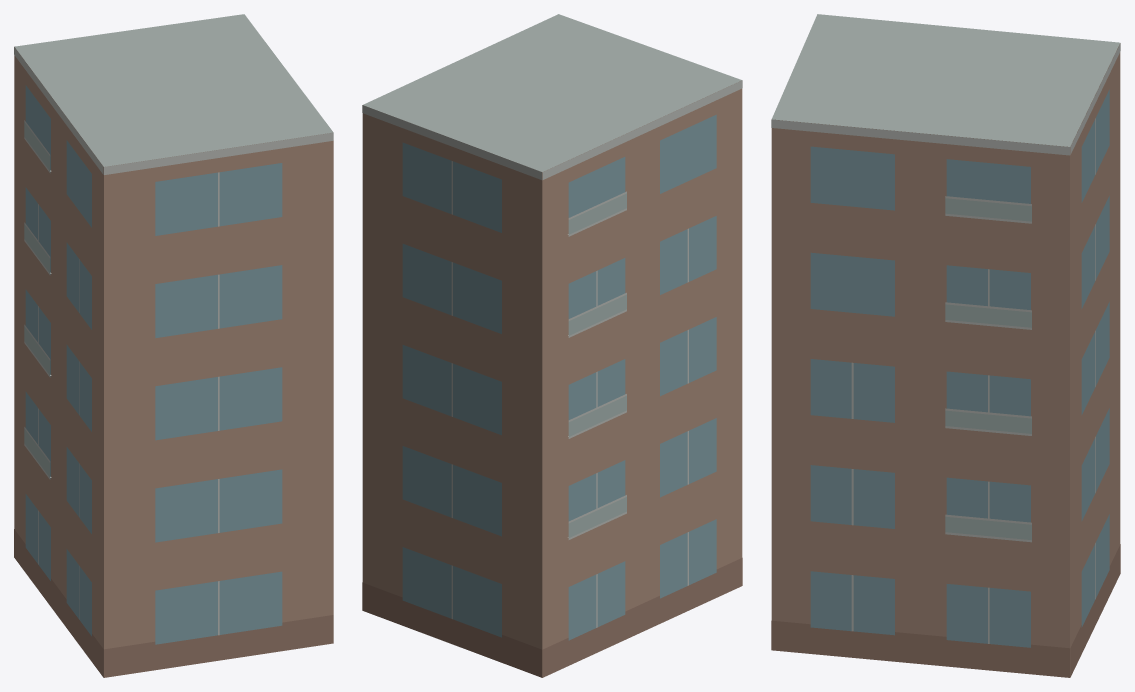
The model's file is survey-upis-32930713.glb.
3 views of the same model, side by side, from view 1: azimuth 30°, elevation 25°; view 2: azimuth 150°, elevation 25°; view 3: azimuth 270°, elevation 25° (orthographic). The views are drawn at different scales.
Parts seen in each view (by area): view 1: survey-upis-32930713.tmp; view 2: survey-upis-32930713.tmp; view 3: survey-upis-32930713.tmp.
Part boxes in pixels (x1,y1,x2,y2): survey-upis-32930713.tmp: (14, 14, 333, 677); survey-upis-32930713.tmp: (362, 14, 742, 677); survey-upis-32930713.tmp: (771, 14, 1120, 677).
Bounding box in the file's own units: 8.15 × 15.15 × 9.04.
